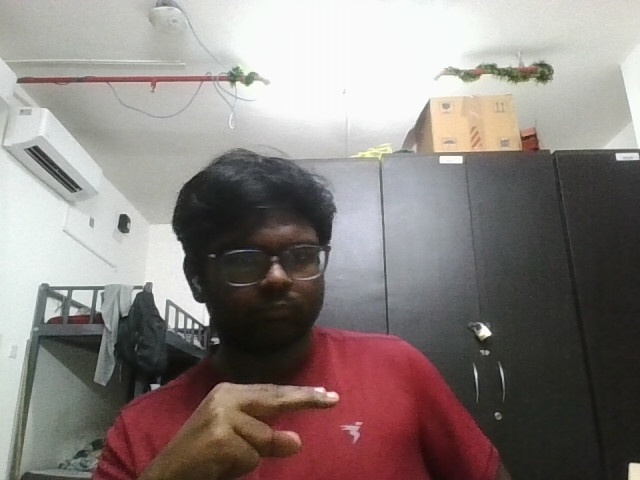No: (135, 365, 359, 480)
